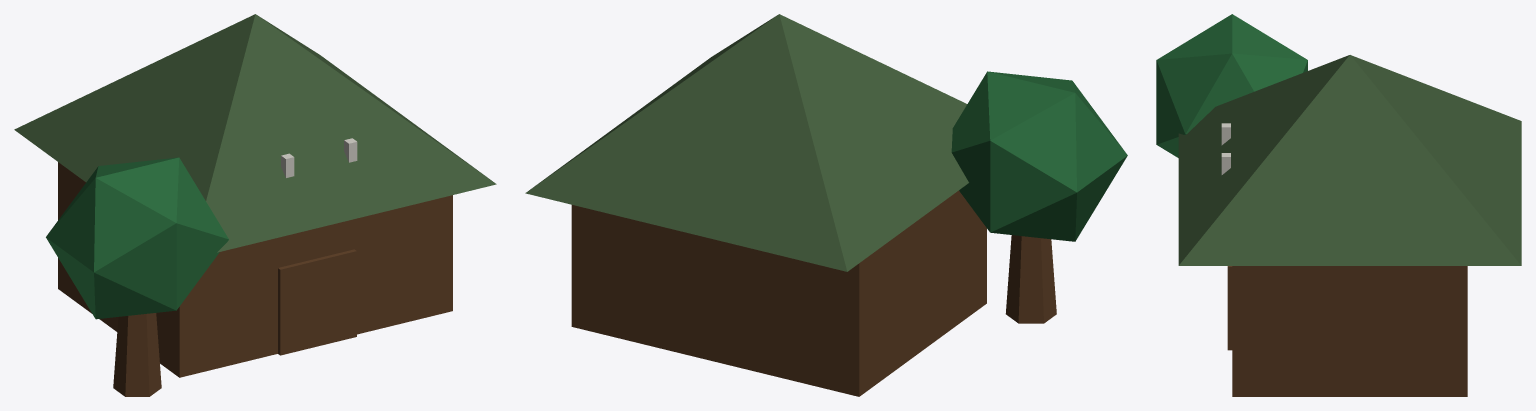
The model's file is hunting-lodge.glb.
3 views of the same model, side by side, from view 1: azimuth 30°, elevation 25°; view 2: azimuth 150°, elevation 25°; view 3: azimuth 270°, elevation 25° (orthographic). The views are drawn at different scales.
Visible parts, largest first — view 1: hunting_lodge; view 2: hunting_lodge; view 3: hunting_lodge.
Part boxes in pixels (x1=…): hunting_lodge: x1=14, y1=14, x2=496, y2=396; hunting_lodge: x1=525, y1=14, x2=1127, y2=396; hunting_lodge: x1=1156, y1=14, x2=1521, y2=396.
Size of the model in its own units: 0.3799 by 0.26 by 0.3099.
